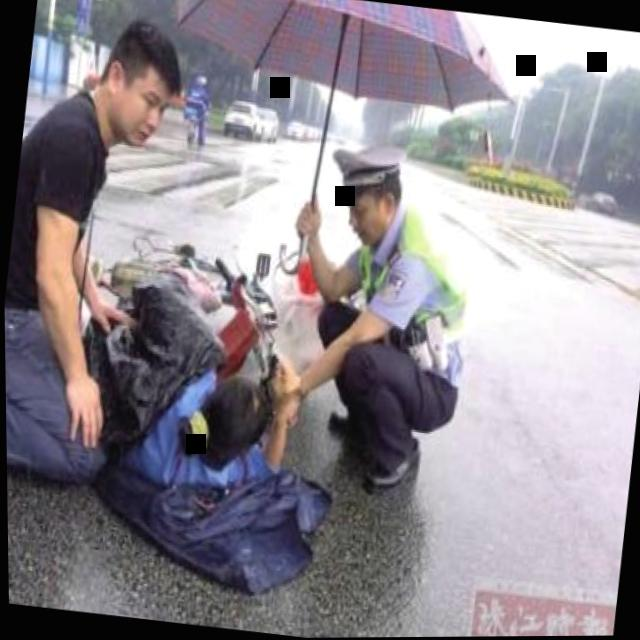Fall-Detected: (34, 240, 312, 507)
